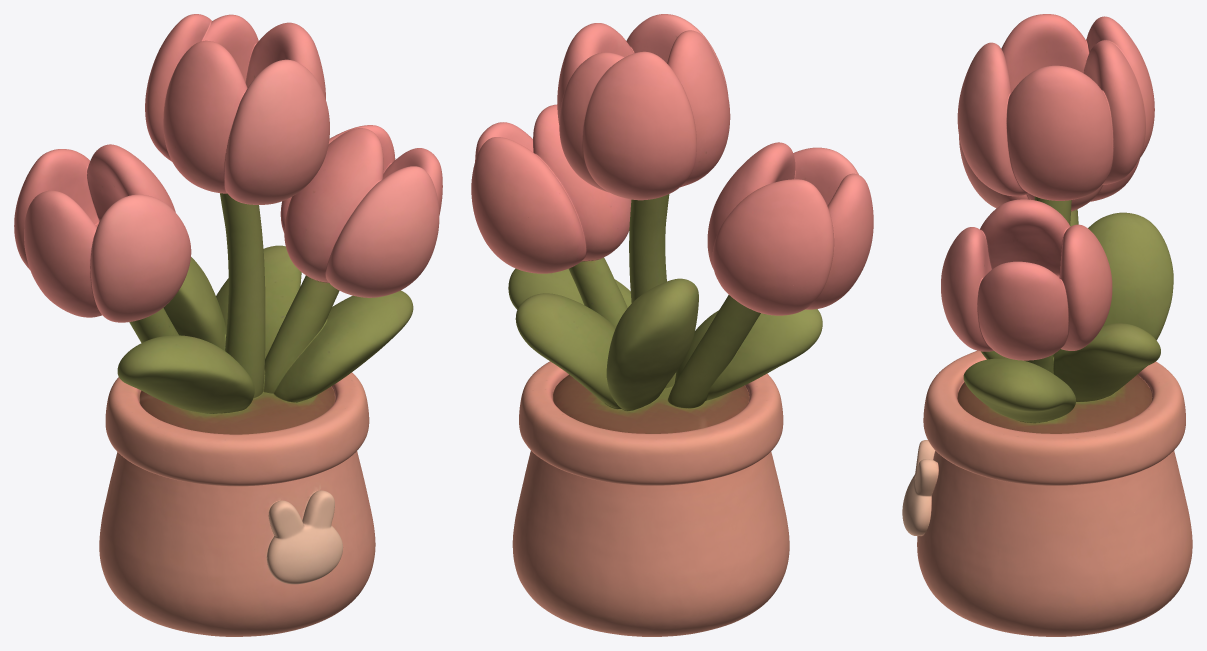
The model's file is FlowerPlant.fbx.
3 renders of one model, left to right at view 1: azimuth 30°, elevation 25°; view 2: azimuth 150°, elevation 25°; view 3: azimuth 270°, elevation 25°, orthographic.
Parts seen in each view (by area): view 1: pink tulip 3d model; view 2: pink tulip 3d model; view 3: pink tulip 3d model.
Boxes of the visible parts, <box> form: pink tulip 3d model: <box>14,14,442,636</box>; pink tulip 3d model: <box>471,14,873,636</box>; pink tulip 3d model: <box>902,14,1192,636</box>.
Size of the model in its own units: 0.7319 by 1 by 0.4663.
Materials: 1 (1 with a texture image).
